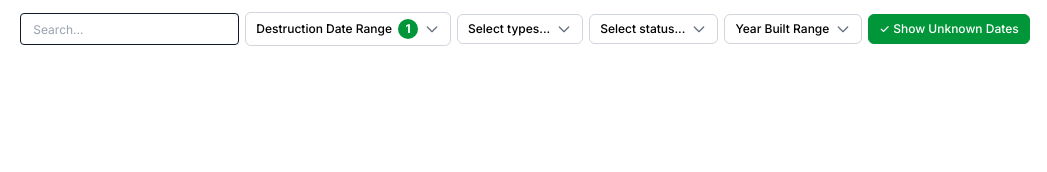
FilterBar — baseline behavior › the clear-search button empties the search input
Step 1. Type "mosque" into the field with placeholder "Search..." → (130, 29), box [20,13,239,45]
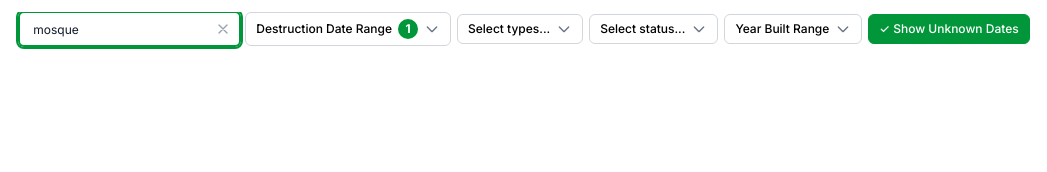
Step 2. Click the button named "clear search" → (223, 29), box [215,21,231,37]
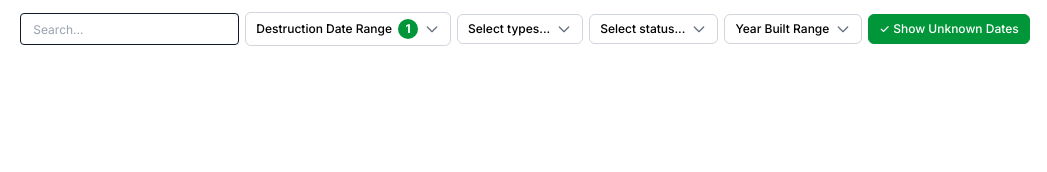
Expected: the field with placeholder "Search..." is empty, [20,13,239,45]
